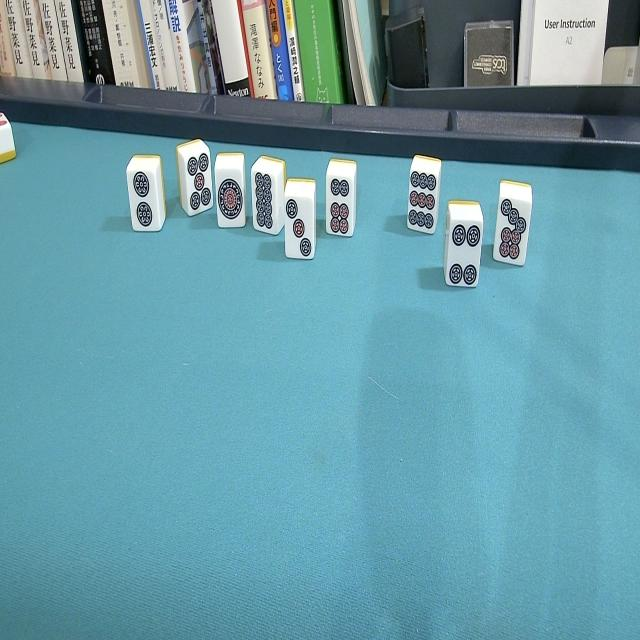1_pin: (213, 151, 248, 236)
2_pin: (125, 155, 169, 237)
3_pin: (282, 178, 318, 265)
4_pin: (442, 199, 486, 293)
5_pin: (175, 137, 217, 223)
6_pin: (324, 157, 360, 243)
7_pin: (492, 181, 534, 272)
8_pin: (250, 154, 287, 244)
9_pin: (406, 151, 442, 238)
